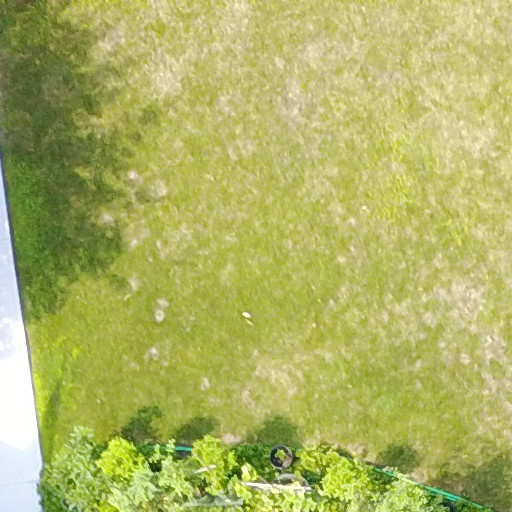flower pot: (262, 437, 299, 476)
